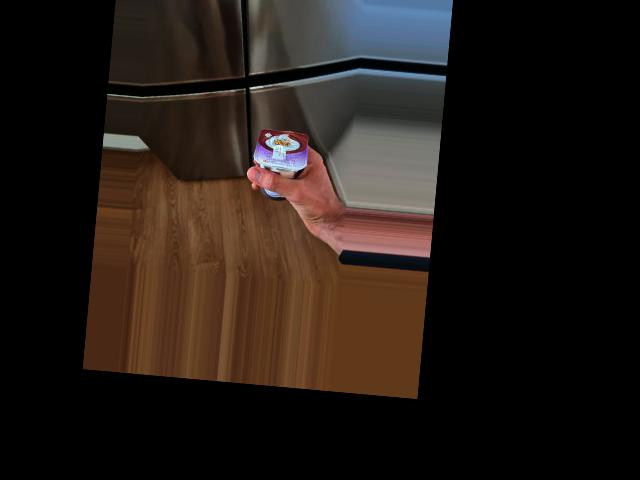milky: (247, 123, 310, 205)
